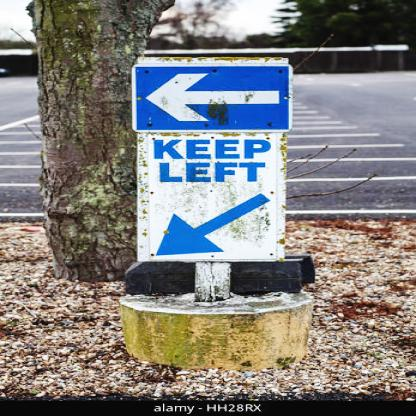Keep left: (132, 130, 291, 261)
